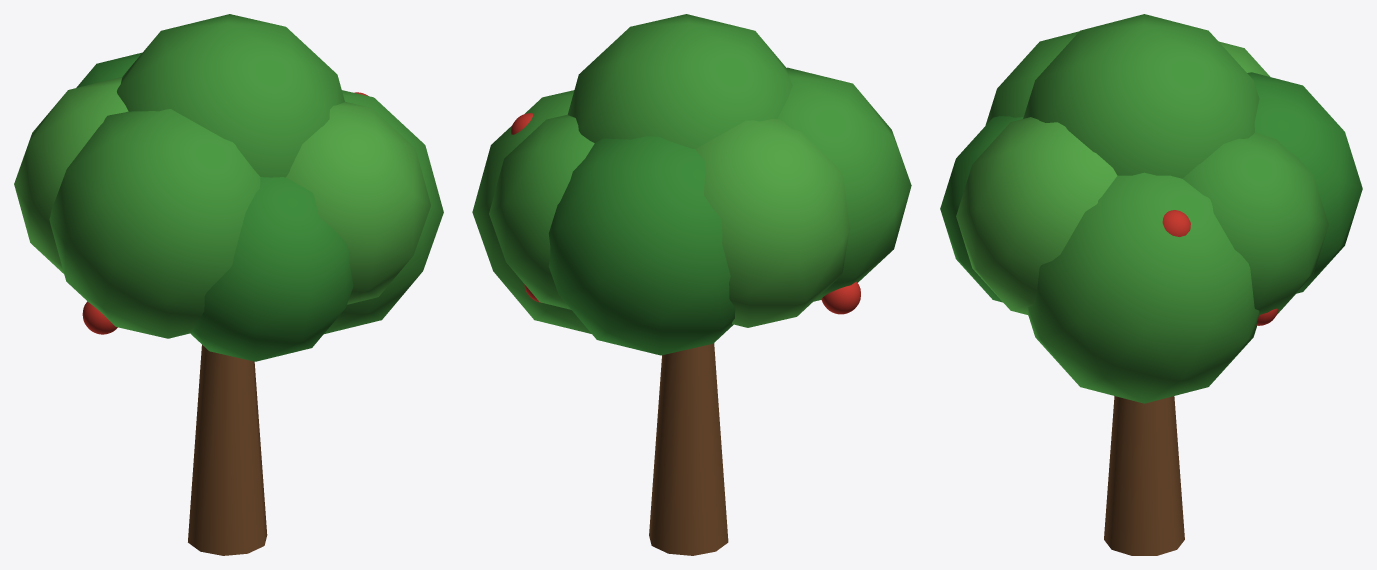
File: tree.glb
The picture shows the model from 3 angles, left to right: view 1: azimuth 30°, elevation 25°; view 2: azimuth 150°, elevation 25°; view 3: azimuth 270°, elevation 25°; orthographic projection.
Parts seen in each view (by area): view 1: farm_tree; view 2: farm_tree; view 3: farm_tree.
Boxes of the visible parts, left/top/right/bottom form: farm_tree: left=14, top=14, right=443, bottom=555; farm_tree: left=472, top=14, right=911, bottom=555; farm_tree: left=940, top=14, right=1362, bottom=555.
Size of the model in its own units: 3.27 by 4.2 by 3.13.
